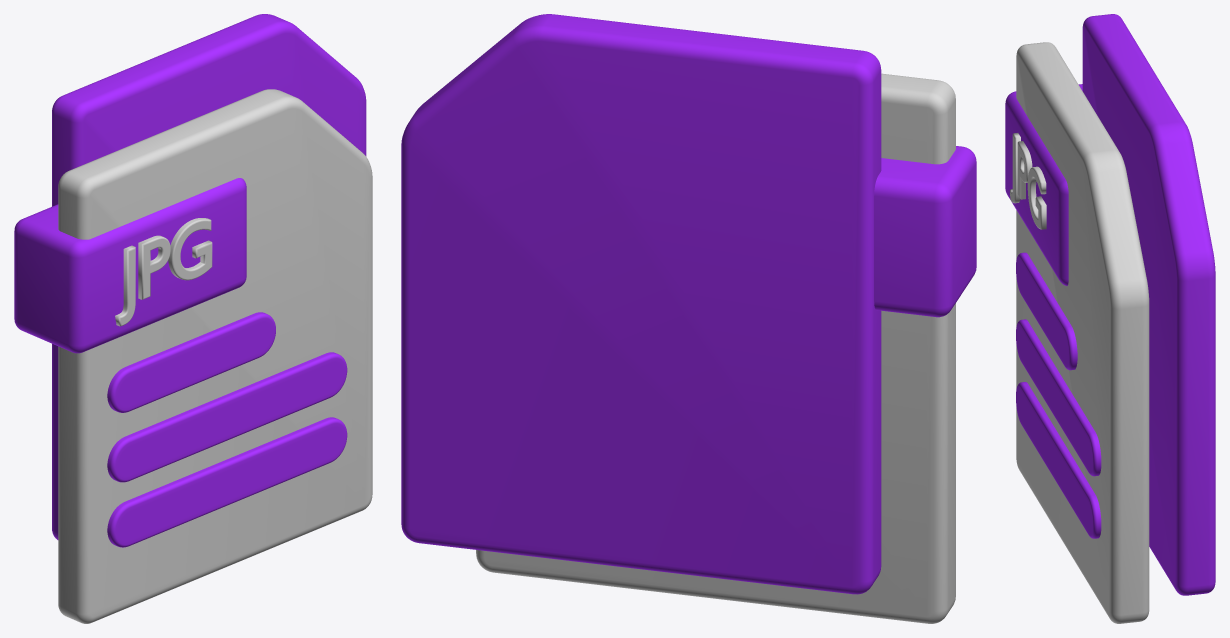
The model's file is jpg.fbx.
The picture shows the model from 3 angles, left to right: view 1: azimuth 30°, elevation 25°; view 2: azimuth 150°, elevation 25°; view 3: azimuth 270°, elevation 25°; orthographic projection. The views are drawn at different scales.
Parts seen in each view (by area): view 1: 6; view 2: 6; view 3: 6.
Part boxes in pixels (x1,y1,x2,y2): 6: [14, 14, 372, 623]; 6: [401, 14, 976, 623]; 6: [1005, 14, 1215, 623].
Size of the model in its own units: 463 by 538 by 218.
